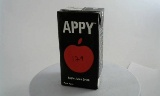appy: (52, 4, 98, 90)
